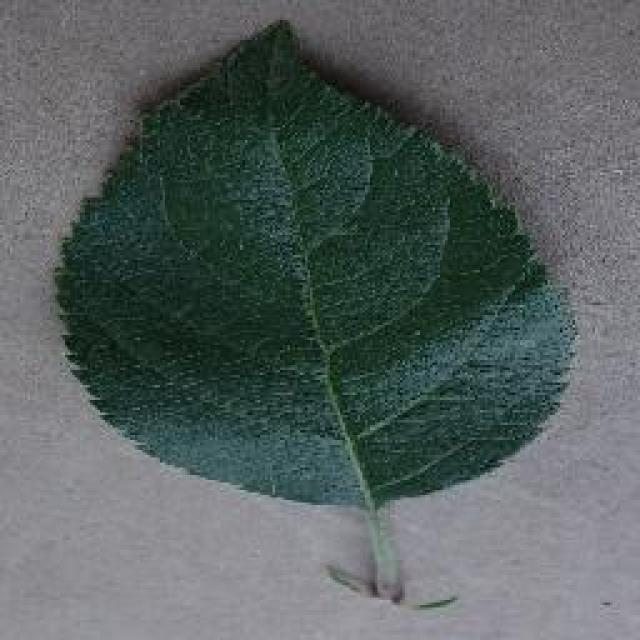apple healthy: (50, 15, 580, 607)
